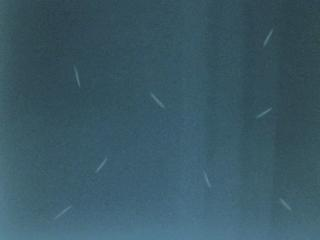scratch: (146, 87, 179, 119), (49, 193, 78, 222), (70, 61, 93, 97), (193, 159, 215, 192), (256, 25, 280, 51), (90, 153, 113, 178), (246, 102, 274, 122), (276, 196, 294, 214)
